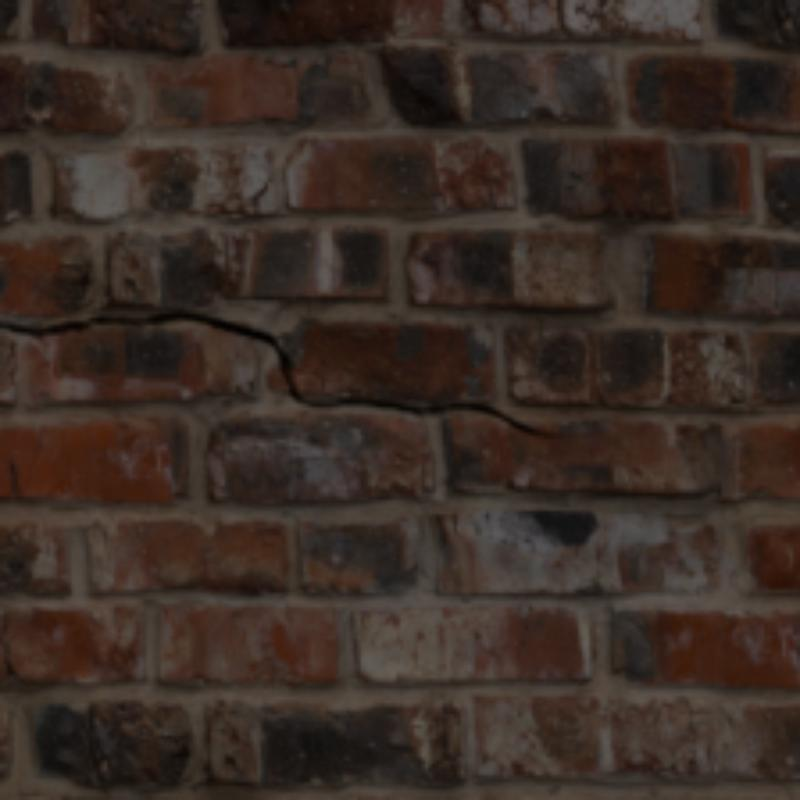crack: (0, 307, 568, 436), (89, 704, 104, 786)
